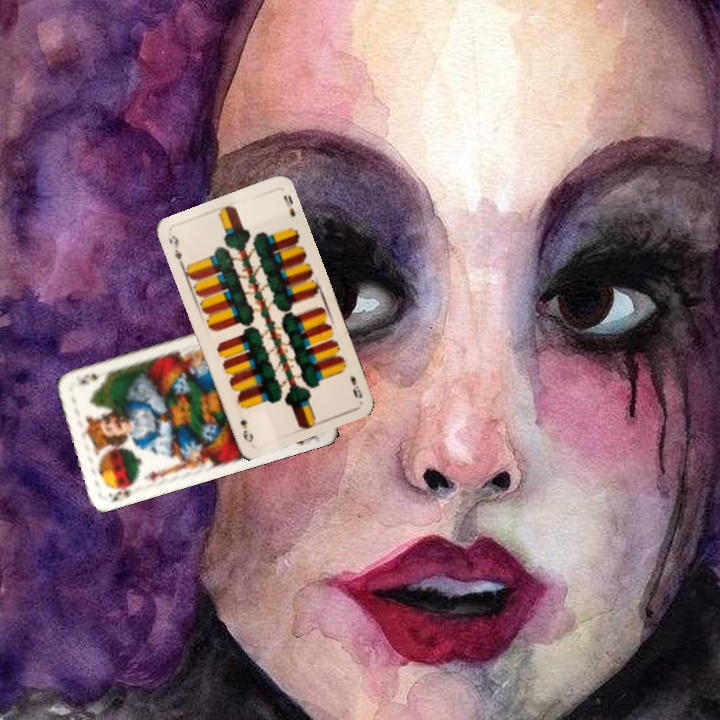E9: (165, 231, 186, 269), (346, 372, 365, 401)
SK: (104, 478, 139, 505)
